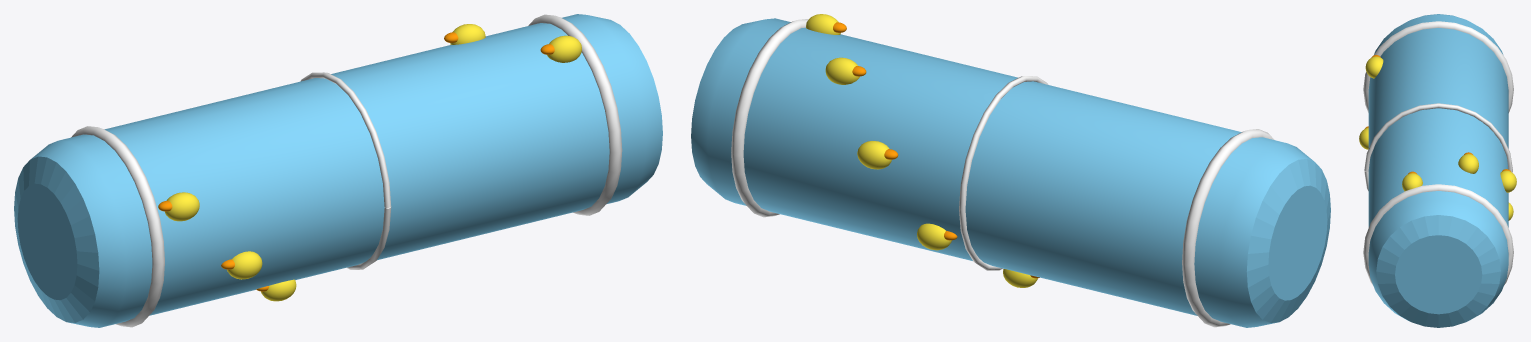
Rendered from comforter.fbx.
3 renders of one model, left to right at view 1: azimuth 30°, elevation 25°; view 2: azimuth 150°, elevation 25°; view 3: azimuth 270°, elevation 25°, orthographic. The views are drawn at different scales.
Visible parts, largest first — view 1: Duck Comforter; view 2: Duck Comforter; view 3: Duck Comforter.
Part boxes in pixels (<box>): Duck Comforter: <box>14,14,662,327</box>; Duck Comforter: <box>691,14,1330,327</box>; Duck Comforter: <box>1359,14,1516,327</box>.
Bounding box in the file's own units: 2.8 × 0.8923 × 0.9.
